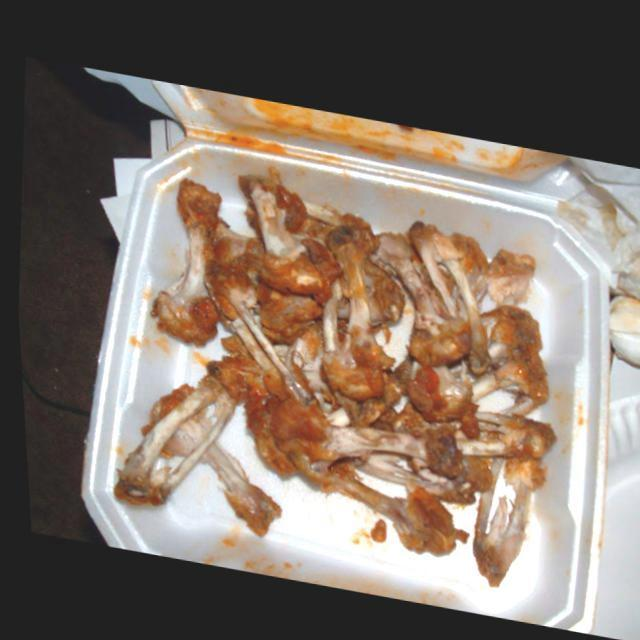left_over_food: (107, 372, 276, 534), (259, 390, 470, 497), (283, 447, 464, 550), (234, 160, 339, 302), (314, 208, 390, 396), (365, 224, 468, 359), (406, 212, 488, 364), (147, 177, 220, 345), (466, 443, 541, 578), (214, 306, 314, 399), (468, 295, 544, 405), (389, 349, 475, 430), (441, 220, 530, 298), (279, 310, 335, 405), (448, 402, 553, 449), (206, 221, 254, 316), (329, 363, 400, 423), (240, 392, 291, 472), (252, 281, 317, 339), (361, 254, 401, 337), (204, 350, 263, 397), (351, 445, 413, 479), (389, 395, 450, 423), (455, 445, 487, 485)
